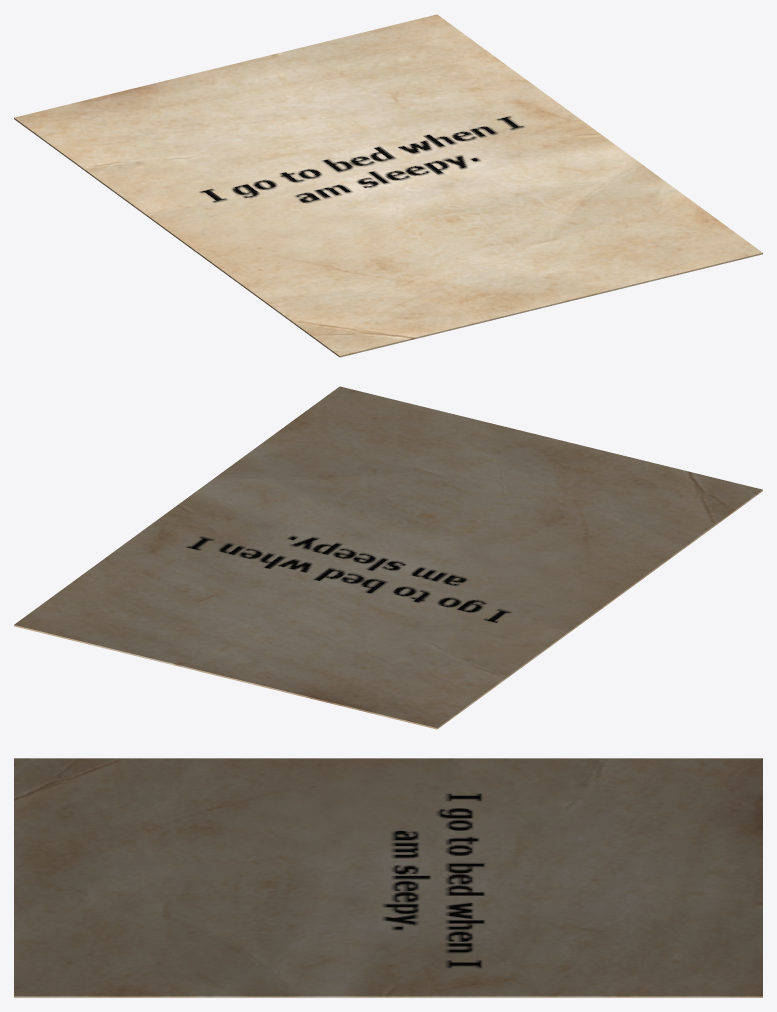
Rendered from PaperToDo_009.FBX.
3 renders of one model, top to bottom at view 1: azimuth 30°, elevation 25°; view 2: azimuth 150°, elevation 25°; view 3: azimuth 270°, elevation 25°, orthographic. The views are drawn at different scales.
Parts seen in each view (by area): view 1: PaperToDo_009; view 2: PaperToDo_009; view 3: PaperToDo_009.
Part boxes in pixels (x1=…): PaperToDo_009: x1=14, y1=14, x2=762, y2=357; PaperToDo_009: x1=14, y1=386, x2=762, y2=729; PaperToDo_009: x1=14, y1=758, x2=762, y2=997.
Bounding box in the file's own units: 30 × 0.1 × 40.
